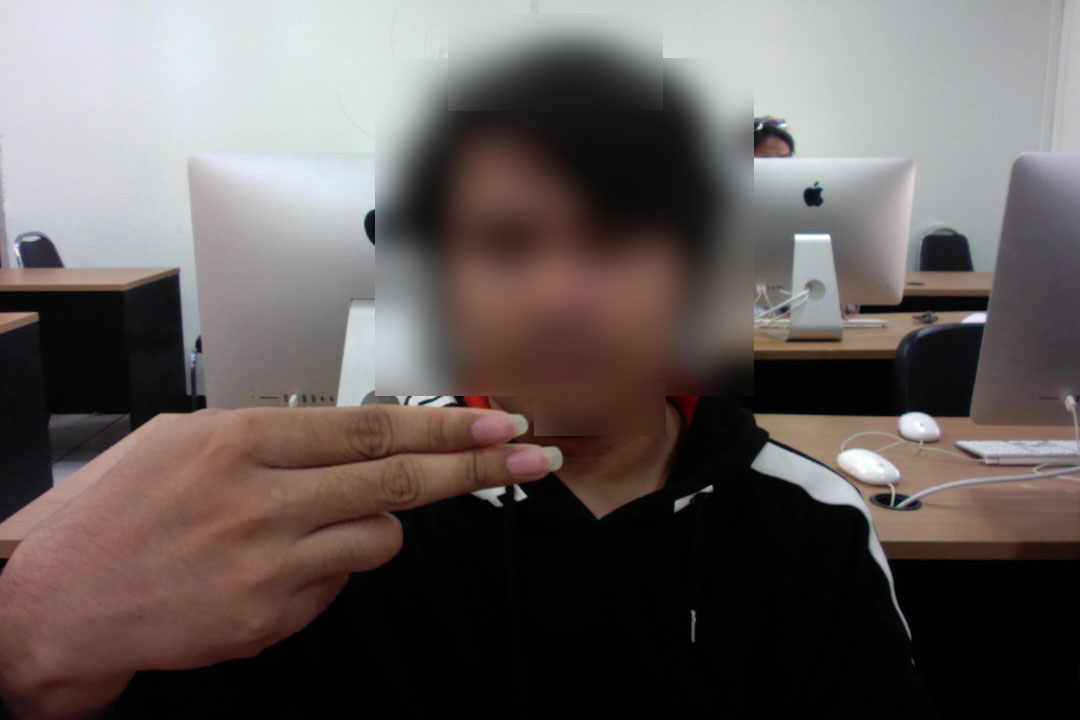hor: (11, 395, 573, 679)
